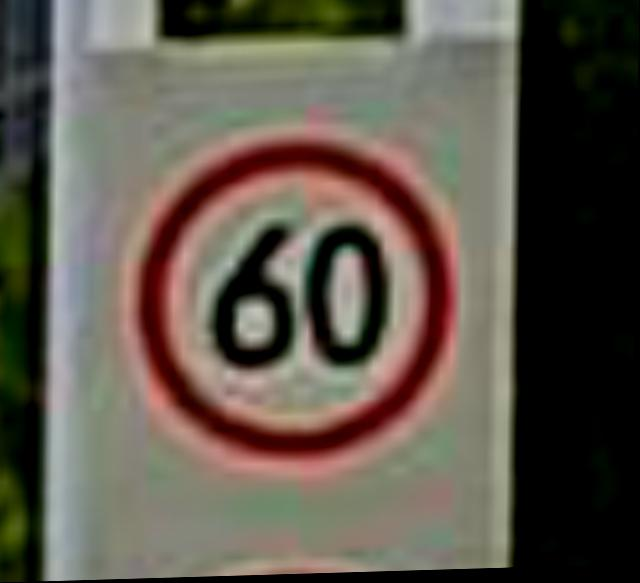limit60: (122, 129, 472, 475)
